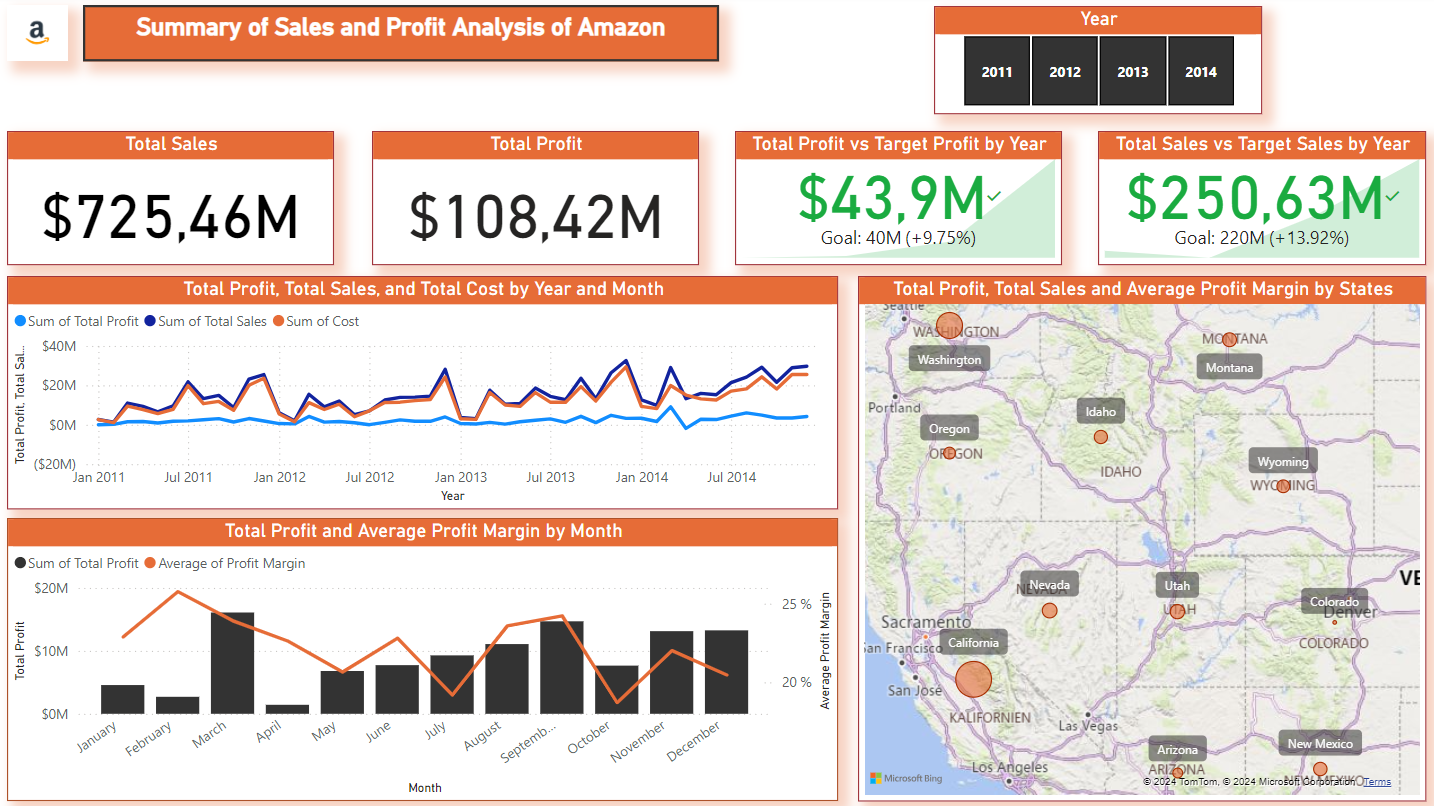

Layout of this report page (visuals, bound fields, positions):
{"tool":"powerbi","page":{"name":"Summary of Sales and Profit Analysis of Amazon","canvas":[1280,720],"ordinal":0},"visuals":[{"type":"image","box":[8.8,7.8,54.5,49.6],"z":0},{"type":"textbox","box":[75.9,7.8,564.1,49.6],"z":1000},{"type":"card","title":"Total Sales","fields":{"Values":["Sum(Sales.Total Sales)"]},"box":[8.8,119.6,289.8,118.7],"z":2000},{"type":"card","title":"Total Profit","fields":{"Values":["Sum(Sales.Total Profit)"]},"box":[332.6,119.6,289.8,118.7],"z":3000},{"type":"lineChart","title":"Total Profit, Total Sales, and Total  Cost by Year and Month","fields":{"Y":["Sum(Sales.Total Profit)","Sum(Sales.Total Sales)","Sum(Sales.Cost)"],"Category":["Dates.Date.Variation.Date Hierarchy.Year","Dates.Date.Variation.Date Hierarchy.Month"]},"box":[8.8,248,737.3,207.2],"z":4000},{"type":"lineClusteredColumnComboChart","title":"Total Profit and Average  Profit Margin by Month","fields":{"Category":["Dates.Date.Variation.Date Hierarchy.Month"],"Y":["Sum(Sales.Total Profit)"],"Y2":["Avg(Sales.Profit Margin)"]},"box":[8.8,463,737.3,250.9],"z":5000},{"type":"kpi","title":"Total Profit vs Target Profit by Year ","fields":{"TrendLine":["Dates.Date.Variation.Date Hierarchy.Year"],"Indicator":["Sum(Sales.Total Profit)"],"Goal":["Sales.Target Profit by Year"]},"box":[654.6,119.6,289.8,118.7],"z":6000},{"type":"kpi","title":"Total Sales vs Target Sales by Year ","fields":{"Indicator":["Sum(Sales.Total Sales)"],"TrendLine":["Dates.Date.Variation.Date Hierarchy.Year"],"Goal":["Sales.Target Sales by Year"]},"box":[976.5,119.6,290.8,118.7],"z":7000},{"type":"slicer","title":"Year","fields":{"Values":["Dates.Date.Variation.Date Hierarchy.Year"]},"box":[830.6,8.8,290.8,96.3],"z":8000},{"type":"map","title":" Total Profit,  Total Sales and Average Profit Margin by States","fields":{"Category":["Sales.States"],"Size":["Sum(Sales.Total Profit)"]},"box":[763.5,248,503.8,465.9],"z":9000}]}

Visuals, with their boxes in screenshot pixels (x1, y1, x2, y2), scaled from the page's 1280x720 canvas onto the 1434x806 screenshot:
image: (10,9,71,64)
textbox: (85,9,717,64)
"Total Sales" card: (10,134,335,267)
"Total Profit" card: (373,134,697,267)
"Total Profit, Total Sales, and Total  Cost by Year and Month" lineChart: (10,278,836,510)
"Total Profit and Average  Profit Margin by Month" lineClusteredColumnComboChart: (10,518,836,799)
"Total Profit vs Target Profit by Year " kpi: (733,134,1058,267)
"Total Sales vs Target Sales by Year " kpi: (1094,134,1420,267)
"Year" slicer: (931,10,1256,118)
" Total Profit,  Total Sales and Average Profit Margin by States" map: (855,278,1420,799)
